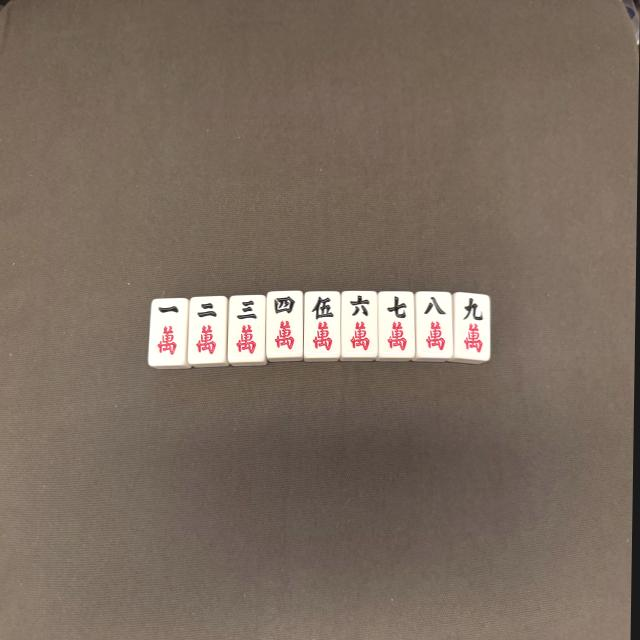m1: (150, 301, 188, 365)
m2: (189, 298, 228, 362)
m3: (228, 295, 266, 359)
m4: (267, 291, 304, 355)
m5: (303, 293, 340, 357)
m6: (340, 292, 377, 355)
m7: (378, 293, 415, 356)
m8: (417, 292, 455, 356)
m9: (455, 296, 491, 360)
